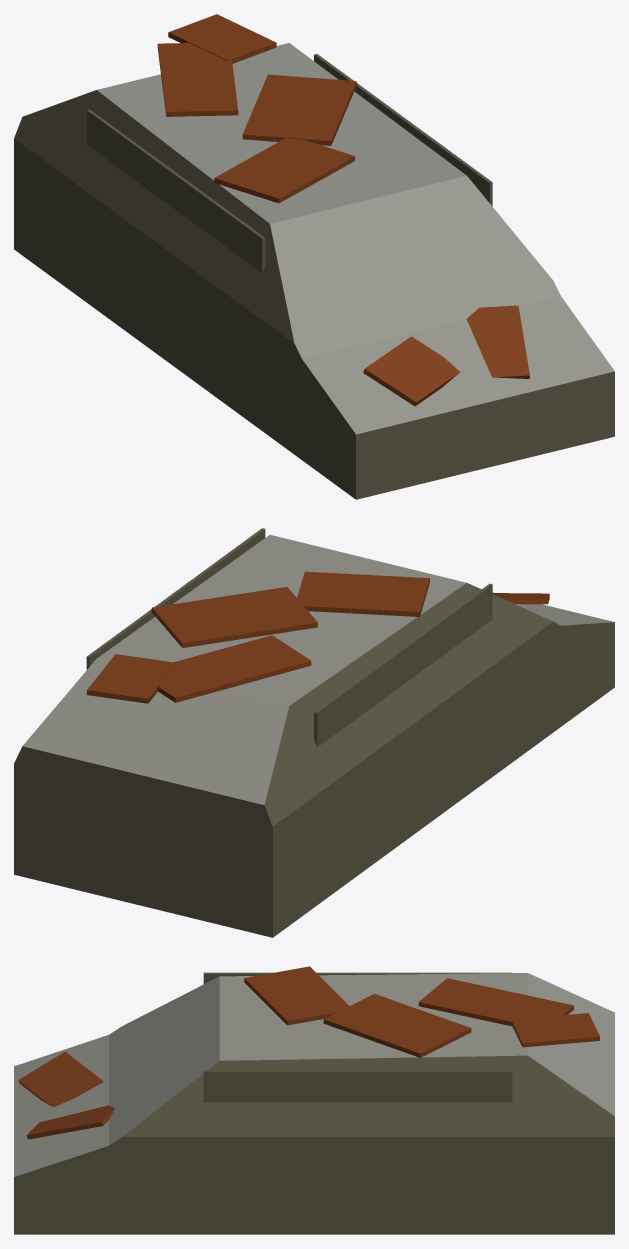
The model's file is SM_CocheCivil_Utilitario_v4_LOD1.fbx.
3 views of the same model, one above another, from view 1: azimuth 30°, elevation 25°; view 2: azimuth 150°, elevation 25°; view 3: azimuth 270°, elevation 25° (orthographic). The views are drawn at different scales.
Visible parts, largest first — view 1: SM_coche_civil_v4_LOD1; view 2: SM_coche_civil_v4_LOD1; view 3: SM_coche_civil_v4_LOD1.
Boxes of the visible parts, x1=… form: SM_coche_civil_v4_LOD1: x1=14, y1=14, x2=614, y2=499; SM_coche_civil_v4_LOD1: x1=14, y1=528, x2=614, y2=937; SM_coche_civil_v4_LOD1: x1=14, y1=966, x2=614, y2=1234.
Bounding box in the file's own units: 1.66 × 1.19 × 3.8.
